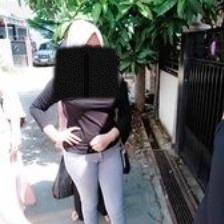Cadar_Niqab: (52, 19, 120, 98)
